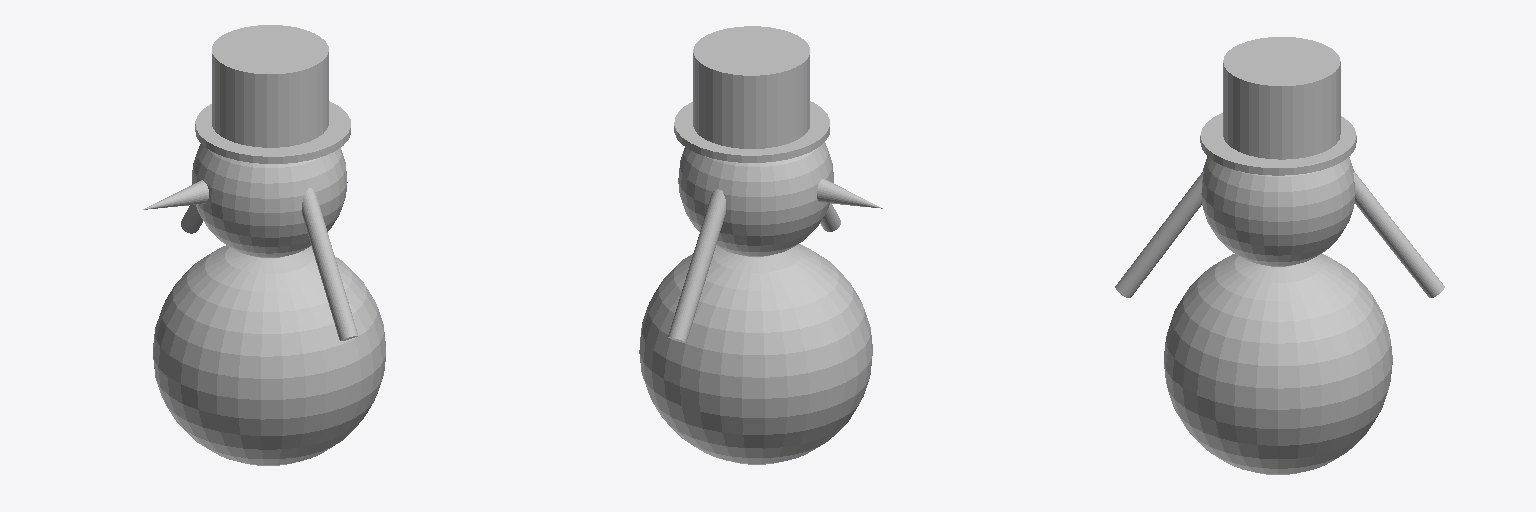
Rendered from Snowman.obj.
3 renders of one model, left to right at view 1: azimuth 30°, elevation 25°; view 2: azimuth 150°, elevation 25°; view 3: azimuth 270°, elevation 25°, orthographic.
Parts seen in each view (by area): view 1: Sphere; view 2: Sphere; view 3: Sphere.
Boxes of the visible parts, x1,y1,x2,y2 form: Sphere: [143, 25, 385, 465]; Sphere: [639, 26, 882, 464]; Sphere: [1115, 37, 1444, 474].
Bounding box in the file's own units: 3.4 × 5.71 × 4.22.